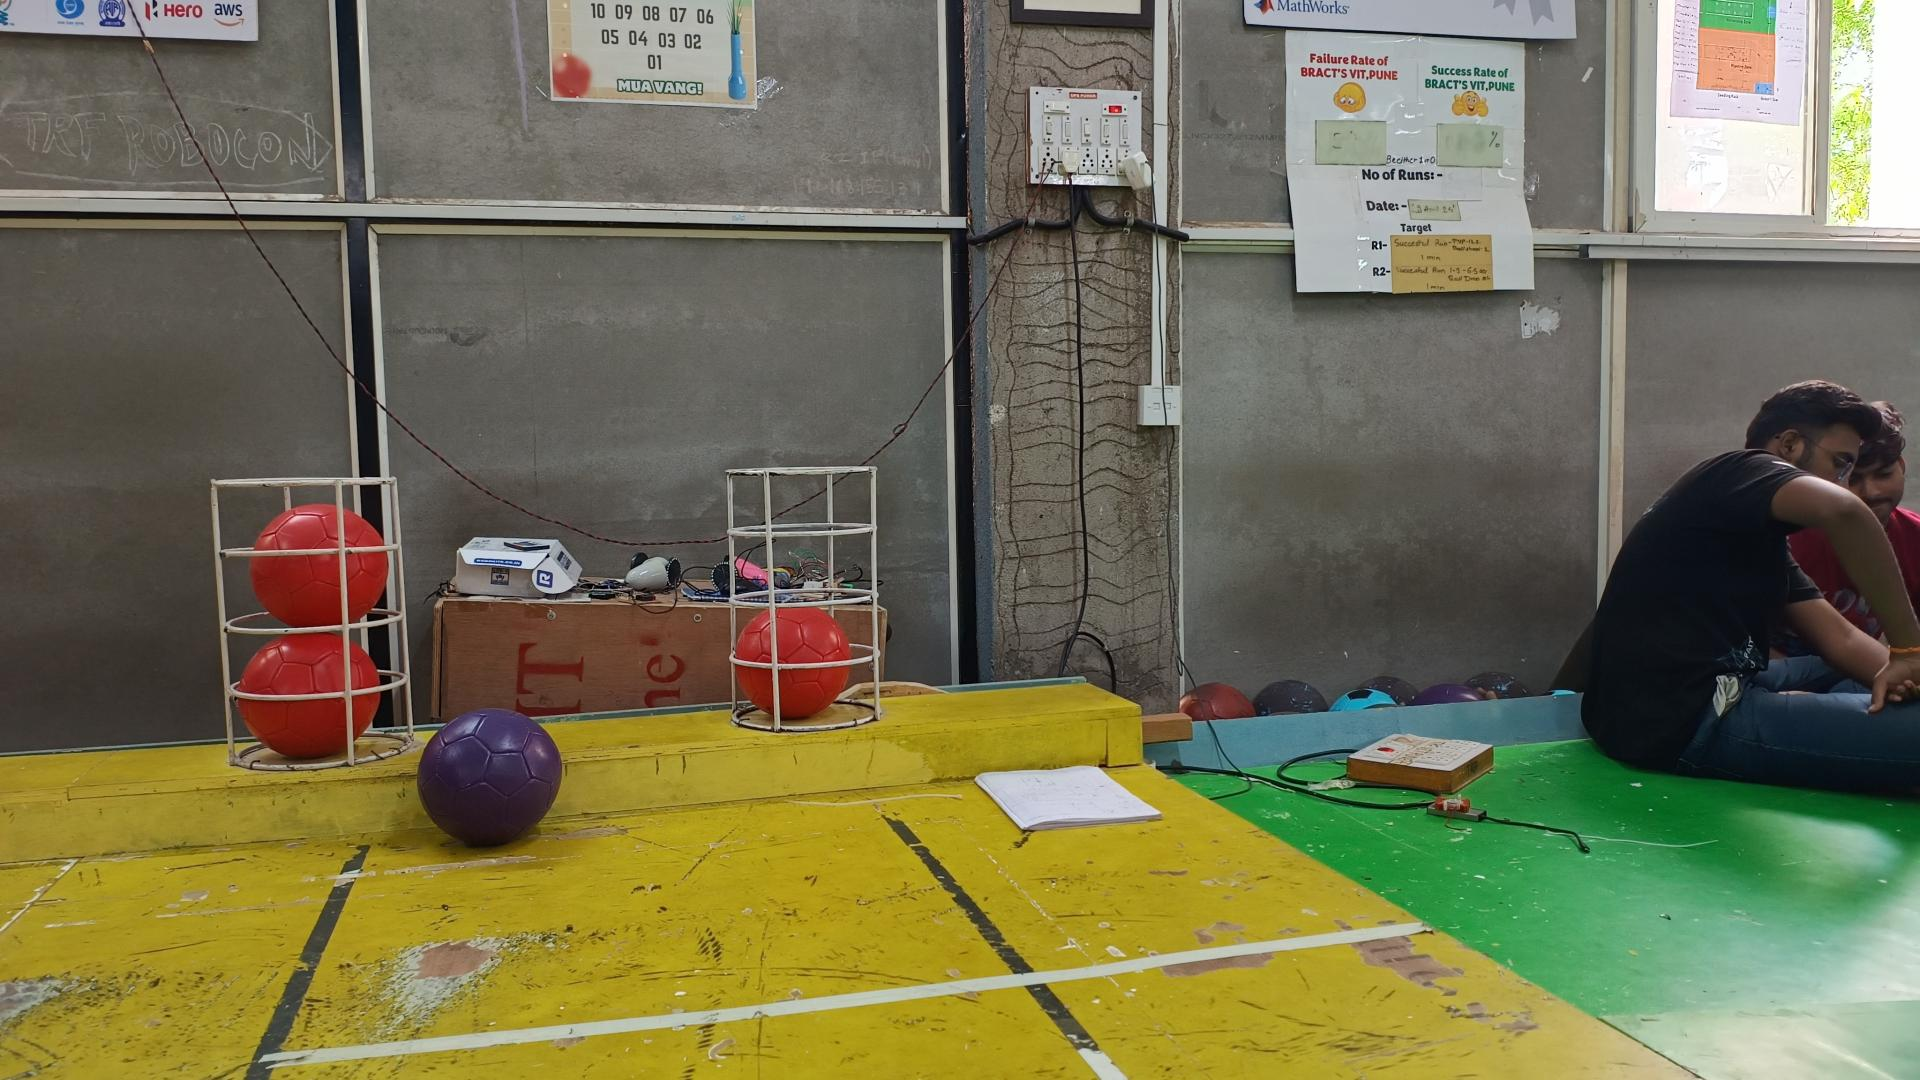laale: (236, 634, 378, 757), (252, 502, 390, 626), (732, 608, 852, 720)
